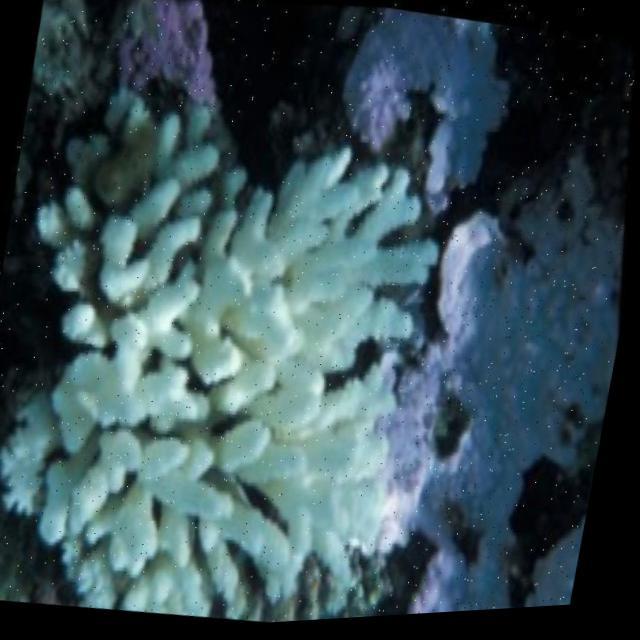Bleached Coral: (0, 18, 517, 640)
